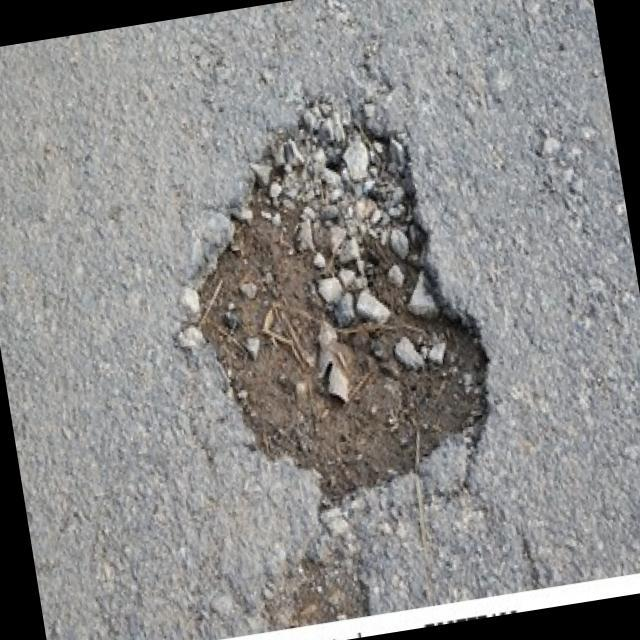Pothole: (166, 74, 507, 525)
